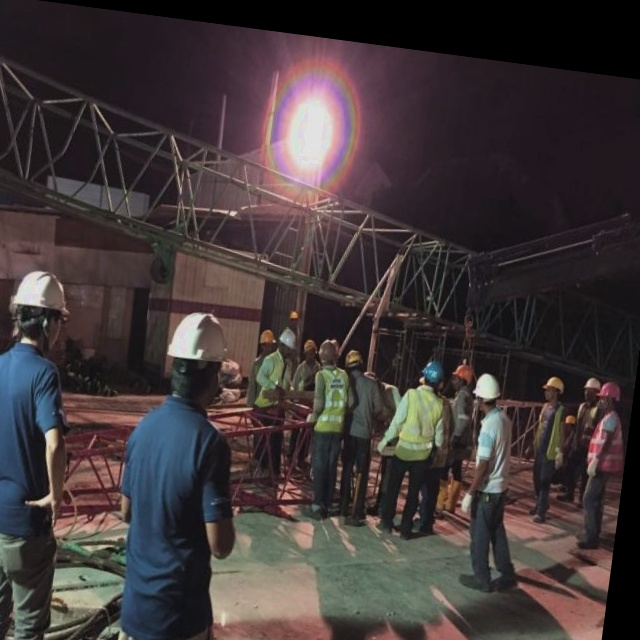Con_Casco: (163, 309, 237, 404), (10, 266, 71, 349)
Con_Chaleco: (395, 387, 446, 461), (311, 366, 349, 431)
Sin_Chaleco: (107, 406, 238, 626), (0, 352, 72, 528)
